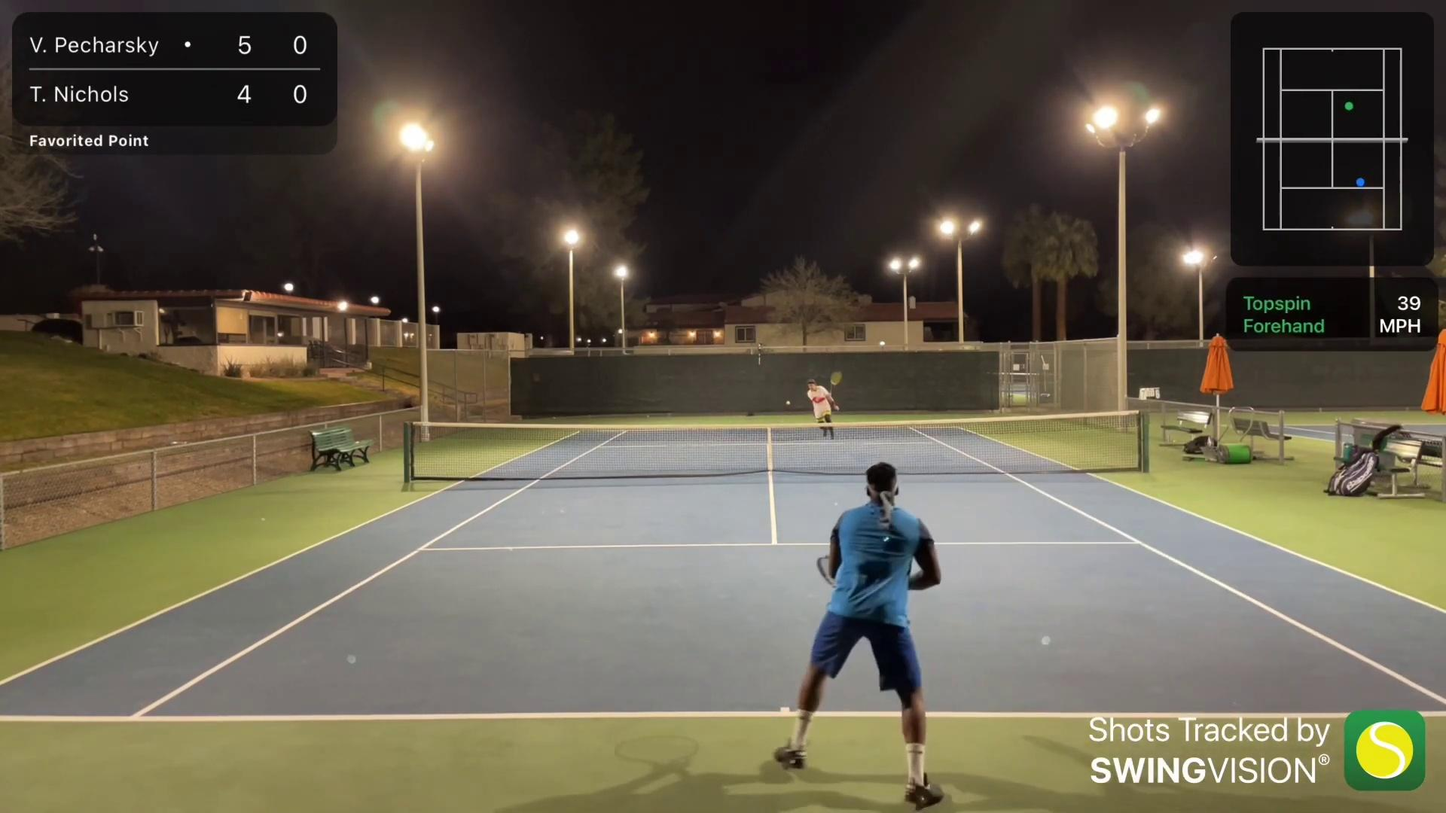ball: (785, 399, 790, 404)
